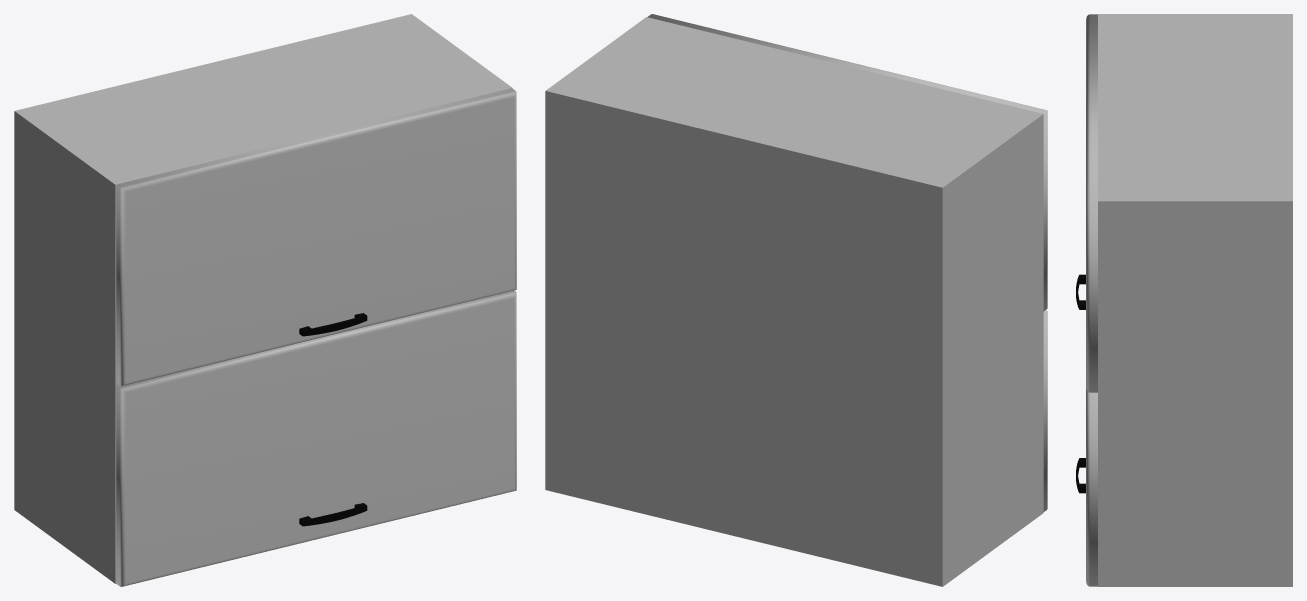
3 views of the same model, side by side, from view 1: azimuth 30°, elevation 25°; view 2: azimuth 150°, elevation 25°; view 3: azimuth 270°, elevation 25° (orthographic). The views are drawn at different scales.
Parts seen in each view (by area): view 1: Box011, Box001, Box029; view 2: Box001, Box011, Box029; view 3: Box001, Box011, Box029.
Part boxes in pixels (x1,y1,x2,y2): Box011: (116, 88, 516, 386); Box001: (14, 14, 512, 583); Box029: (116, 290, 516, 586); Box001: (545, 17, 1043, 586); Box011: (647, 14, 1047, 311); Box029: (1043, 310, 1047, 511); Box001: (1098, 14, 1292, 586); Box011: (1086, 14, 1097, 392); Box029: (1086, 388, 1097, 586).
Size of the model in its own units: 0.75 by 0.72 by 0.3671.
2 materials, 1 textured.
